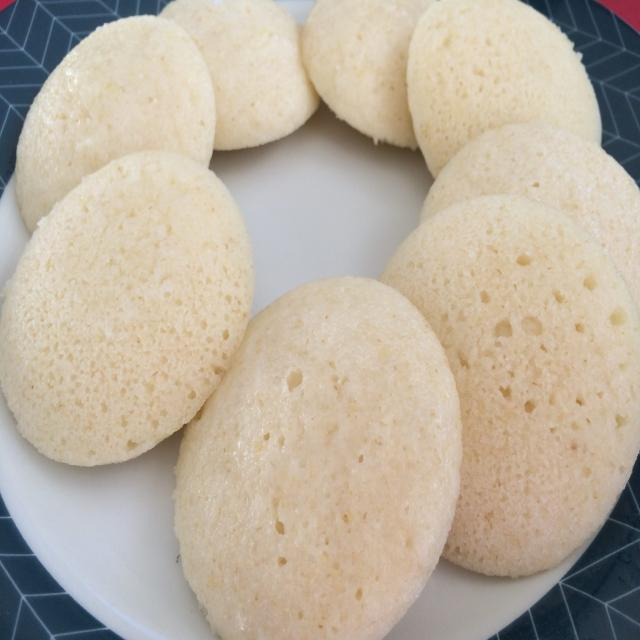idli: (163, 262, 470, 640), (362, 194, 640, 580), (0, 152, 263, 474), (410, 119, 640, 347), (8, 12, 226, 242), (402, 0, 612, 190), (299, 0, 477, 171), (152, 0, 327, 157)
